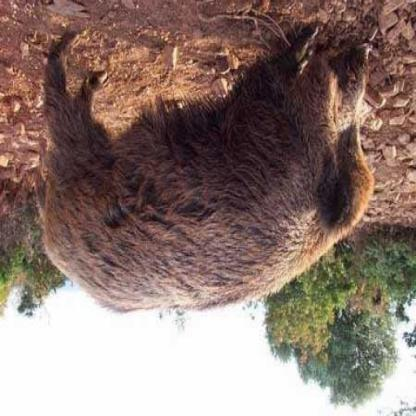boar: (23, 12, 389, 312)
